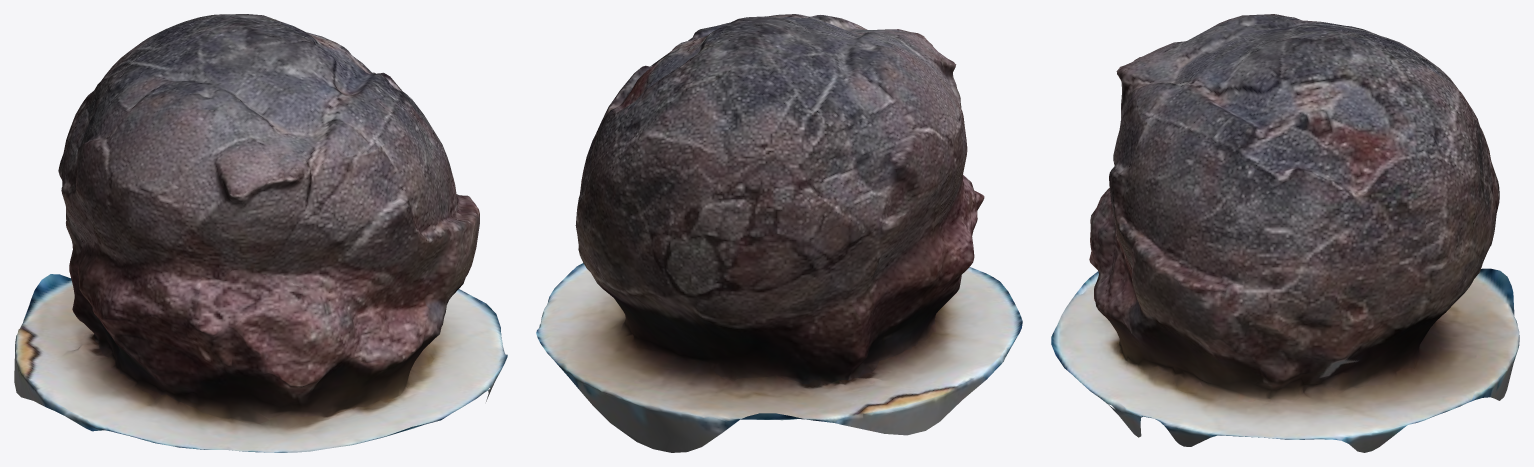
The model's file is egg.glb.
The picture shows the model from 3 angles, left to right: view 1: azimuth 30°, elevation 25°; view 2: azimuth 150°, elevation 25°; view 3: azimuth 270°, elevation 25°; orthographic projection. The views are drawn at different scales.
Size of the model in its own units: 8.25 by 6.54 by 8.06.
1 material, 1 textured.
